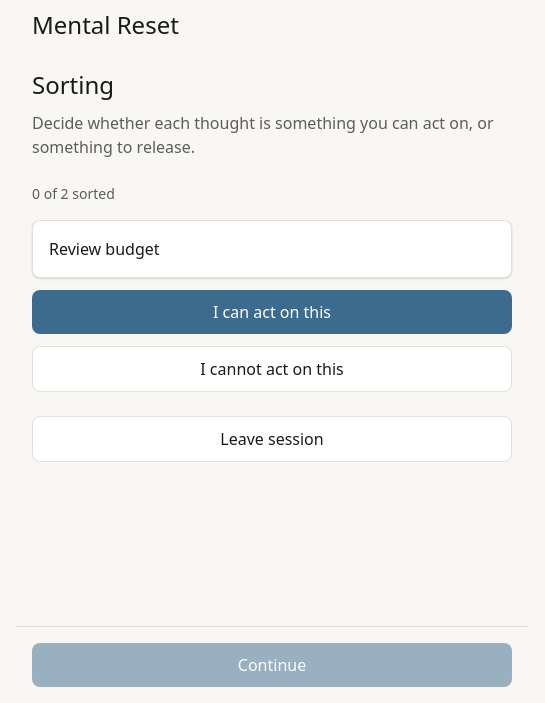
Test: Sorting screen › includes pulled Save for Later thoughts in the sort queue
The width and height of the screenshot is (545, 703).
Expected: the text "Review budget" is shown, x1=49 y1=238 x2=160 y2=260
Click the button "I can act on this" at (272, 312), box x1=32 y1=290 x2=512 y2=334
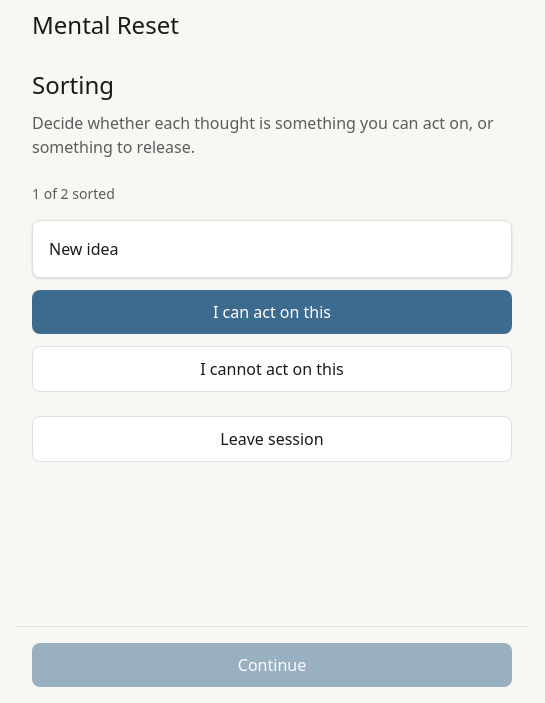
Result: the text "New idea" is shown at x1=49 y1=238 x2=119 y2=260
